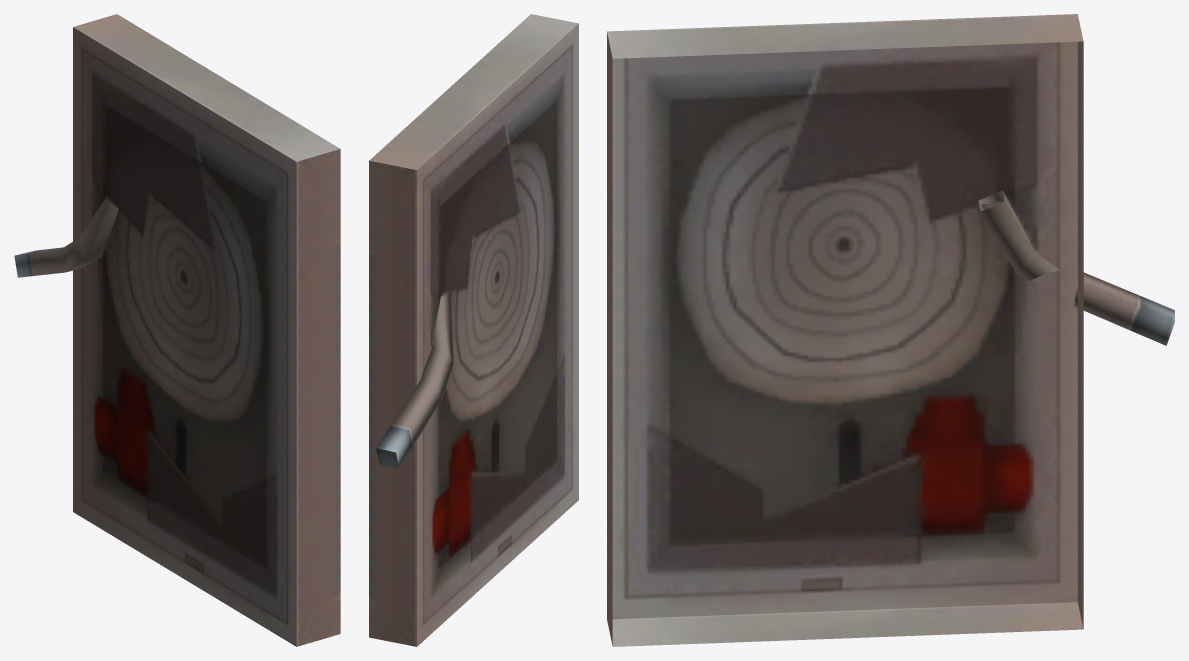
Rendered from sundries_28_2d517a47__ZombiesII_depot_diffuse_08_ba9eed24_c1f257.obj.
The picture shows the model from 3 angles, left to right: view 1: azimuth 30°, elevation 25°; view 2: azimuth 150°, elevation 25°; view 3: azimuth 270°, elevation 25°; orthographic projection. The views are drawn at different scales.
Size of the model in its own units: 0.4894 by 2.4 by 2.1.
Materials: 1 (1 with a texture image).
